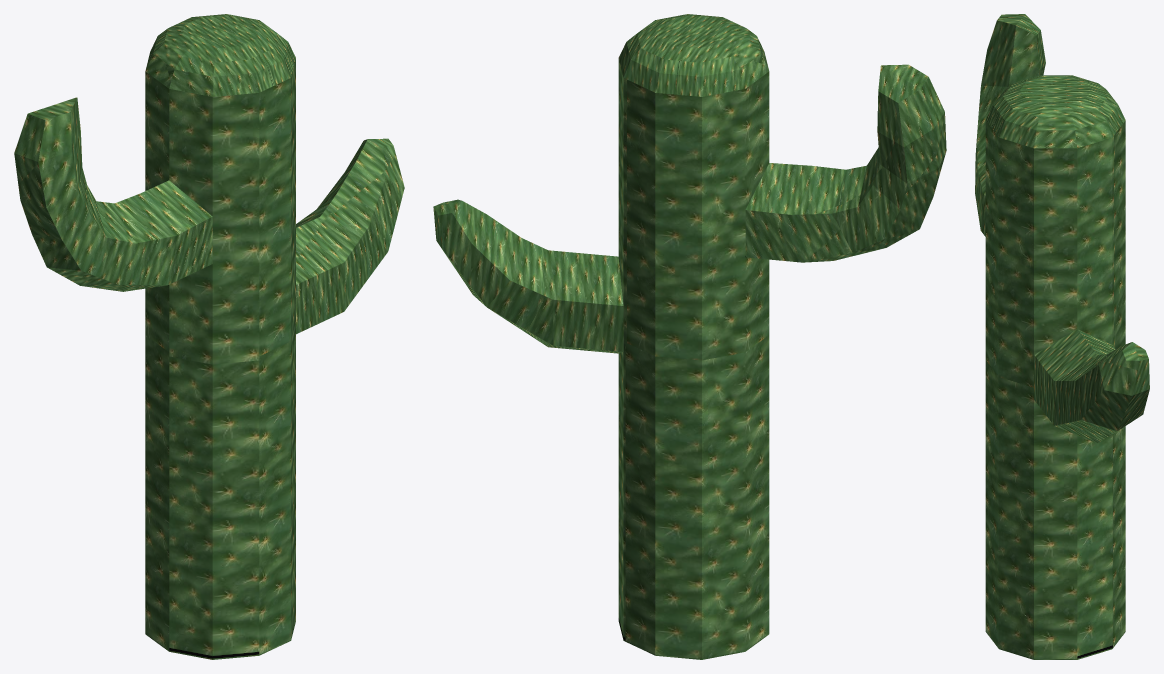
Rendered from cacto.glb.
3 views of the same model, side by side, from view 1: azimuth 30°, elevation 25°; view 2: azimuth 150°, elevation 25°; view 3: azimuth 270°, elevation 25° (orthographic). The views are drawn at different scales.
Parts seen in each view (by area): view 1: Cylinder; view 2: Cylinder; view 3: Cylinder.
Boxes of the visible parts, left/top/right/bottom form: Cylinder: left=14, top=14, right=404, bottom=659; Cylinder: left=433, top=14, right=946, bottom=659; Cylinder: left=975, top=14, right=1149, bottom=659.
Bounding box in the file's own units: 6.58 × 8.53 × 2.5.
Materials: 1 (1 with a texture image).
